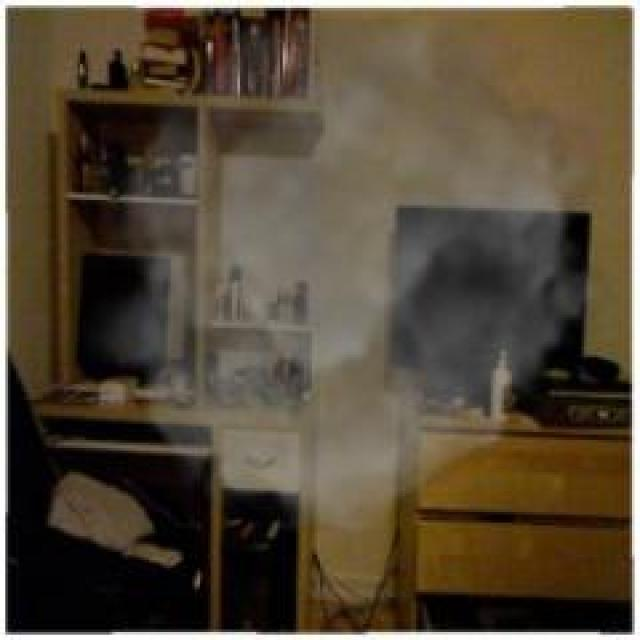smoke: (79, 17, 621, 532)
